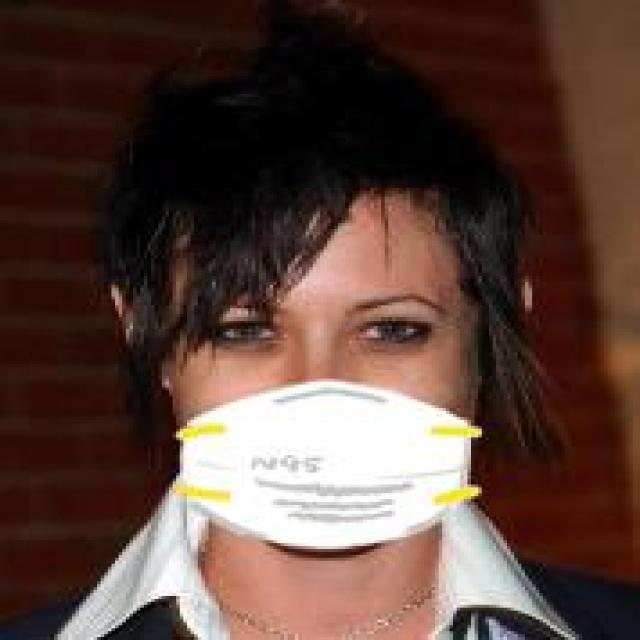mask: (108, 120, 572, 561)
